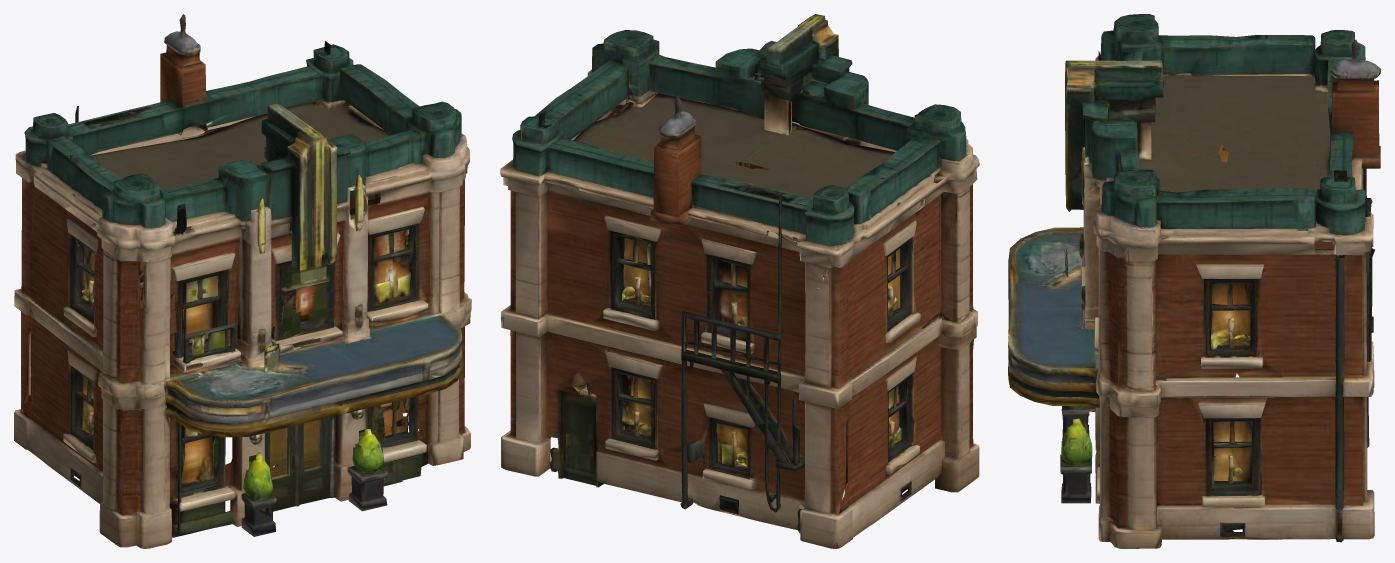
The model's file is candidate.glb.
3 views of the same model, side by side, from view 1: azimuth 30°, elevation 25°; view 2: azimuth 150°, elevation 25°; view 3: azimuth 270°, elevation 25° (orthographic). The views are drawn at different scales.
Visible parts, largest first — view 1: expansion__hotel_2__native_mobile; view 2: expansion__hotel_2__native_mobile; view 3: expansion__hotel_2__native_mobile.
Part boxes in pixels (x1,y1,x2,y2): expansion__hotel_2__native_mobile: (14, 14, 471, 548); expansion__hotel_2__native_mobile: (500, 14, 979, 548); expansion__hotel_2__native_mobile: (1008, 14, 1380, 548).
Size of the model in its own units: 0.9339 by 1 by 0.7818.
Materials: 1 (1 with a texture image).
